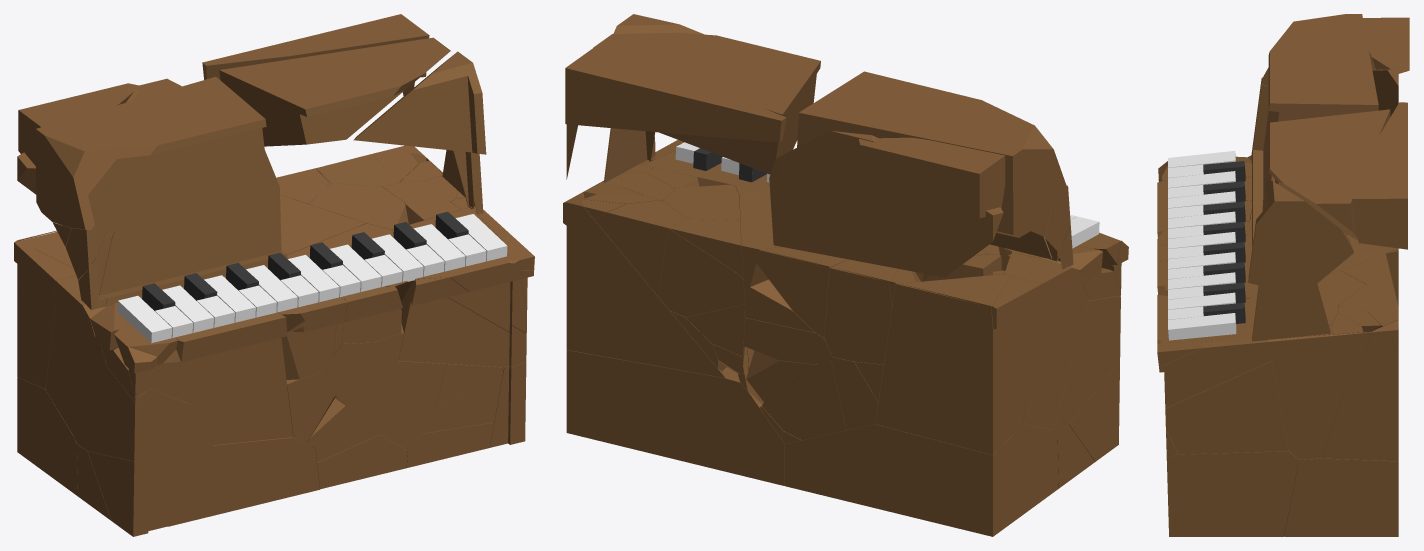
Rendered from piano-pieces.fbx.
3 views of the same model, side by side, from view 1: azimuth 30°, elevation 25°; view 2: azimuth 150°, elevation 25°; view 3: azimuth 270°, elevation 25° (orthographic). The views are drawn at different scales.
Visible parts, largest first — view 1: piano_cell.010_cell.013, piano_cell.010_cell.018, piano_cell.002, piano_cell.027_cell.024, piano_cell.027_cell.015, piano_cell.018, piano_cell.027_cell.031, piano_cell.027_cell.022, piano_cell.027_cell.006, piano_cell.027_cell.030, piano_cell.027_cell.016_cell.016, piano_cell.027_cell.012 (+59 smaller); view 2: piano_cell.009, piano_cell.027_cell.002, piano_cell.027_cell.009, piano_cell.027_cell, piano_cell.010_cell.013, piano_cell.027_cell.007, piano_cell.010_cell, piano_cell.002, piano_cell.027_cell.030, piano_cell.004, piano_cell.027_cell.033_cell.024, piano_cell.027_cell.017_cell.008 (+27 smaller); view 3: piano_cell.027_cell.001, piano_cell.010_cell.013, piano_cell.027_cell.012, piano_cell.002, piano_cell.027_cell, piano_cell.027_cell.020, piano_cell.018, piano_cell.027_cell.007, piano_cell.010_cell, piano_cell.027_cell.010, piano_cell.010_cell.011, piano_cell.004 (+39 smaller).
Part boxes in pixels (left/top/right/bottom): piano_cell.010_cell.013: left=35, top=77, right=266, bottom=232; piano_cell.010_cell.018: left=99, top=149, right=287, bottom=306; piano_cell.002: left=219, top=37, right=450, bottom=146; piano_cell.027_cell.024: left=175, top=297, right=293, bottom=444; piano_cell.027_cell.015: left=168, top=437, right=319, bottom=526; piano_cell.018: left=353, top=51, right=486, bottom=154; piano_cell.027_cell.031: left=73, top=364, right=210, bottom=461; piano_cell.027_cell.022: left=398, top=277, right=526, bottom=367; piano_cell.027_cell.006: left=87, top=444, right=213, bottom=536; piano_cell.027_cell.030: left=45, top=274, right=105, bottom=435; piano_cell.027_cell.016_cell.016: left=358, top=361, right=446, bottom=450; piano_cell.027_cell.012: left=392, top=207, right=526, bottom=333; piano_cell.009: left=769, top=131, right=1003, bottom=277; piano_cell.027_cell.002: left=785, top=424, right=1058, bottom=536; piano_cell.027_cell.009: left=875, top=274, right=1015, bottom=455; piano_cell.027_cell: left=566, top=350, right=784, bottom=485; piano_cell.010_cell.013: left=797, top=71, right=1066, bottom=237; piano_cell.027_cell.007: left=563, top=194, right=724, bottom=377; piano_cell.010_cell: left=565, top=46, right=786, bottom=142; piano_cell.002: left=593, top=32, right=820, bottom=174; piano_cell.027_cell.030: left=1004, top=253, right=1088, bottom=429; piano_cell.004: left=859, top=137, right=1005, bottom=218; piano_cell.027_cell.033_cell.024: left=824, top=259, right=898, bottom=364; piano_cell.027_cell.017_cell.008: left=658, top=228, right=744, bottom=316; piano_cell.027_cell.001: left=1166, top=451, right=1298, bottom=536; piano_cell.010_cell.013: left=1261, top=14, right=1378, bottom=121; piano_cell.027_cell.012: left=1157, top=297, right=1288, bottom=454; piano_cell.002: left=1268, top=109, right=1390, bottom=240; piano_cell.027_cell: left=1284, top=458, right=1398, bottom=536; piano_cell.027_cell.020: left=1268, top=332, right=1371, bottom=459; piano_cell.018: left=1248, top=178, right=1354, bottom=292; piano_cell.027_cell.007: left=1322, top=320, right=1398, bottom=461; piano_cell.010_cell: left=1352, top=102, right=1407, bottom=249; piano_cell.027_cell.010: left=1159, top=339, right=1270, bottom=407; piano_cell.010_cell.011: left=1252, top=284, right=1330, bottom=341; piano_cell.004: left=1363, top=17, right=1409, bottom=73.
Size of the model in its own units: 3.78 by 3.08 by 2.09.
